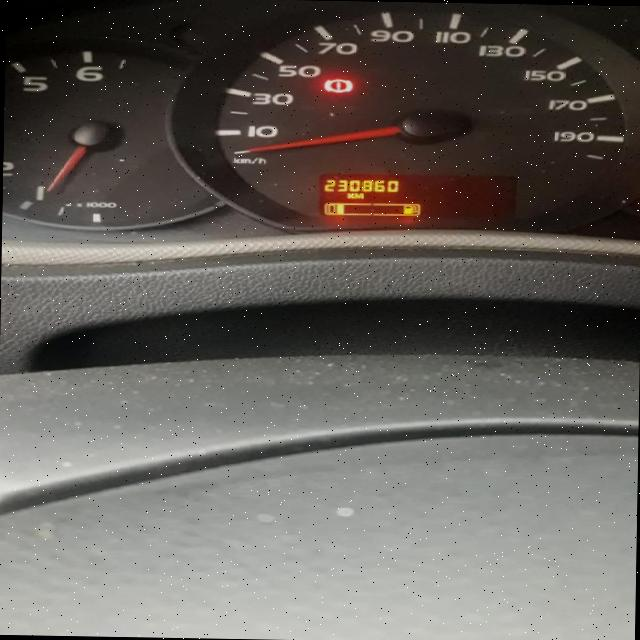odometer: (312, 170, 522, 222)
